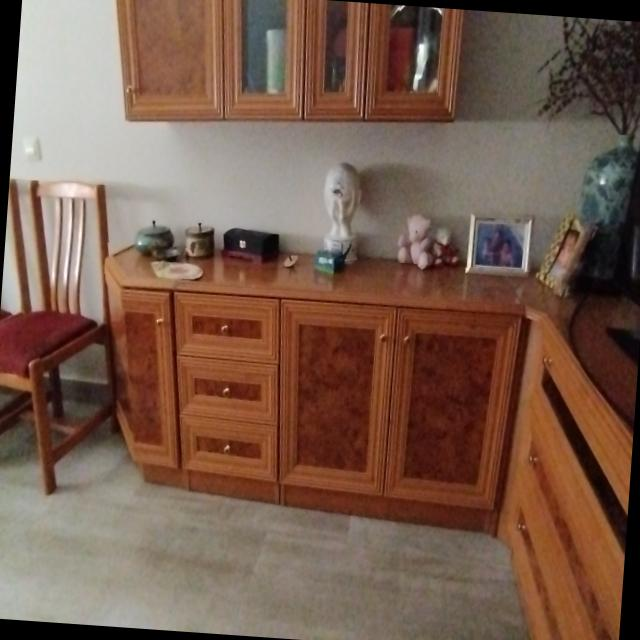cabinet: (104, 249, 640, 640), (223, 0, 464, 122), (123, 0, 223, 120)
chair: (0, 182, 112, 497), (0, 181, 30, 315), (0, 395, 23, 416)
monitor: (619, 152, 640, 305)
